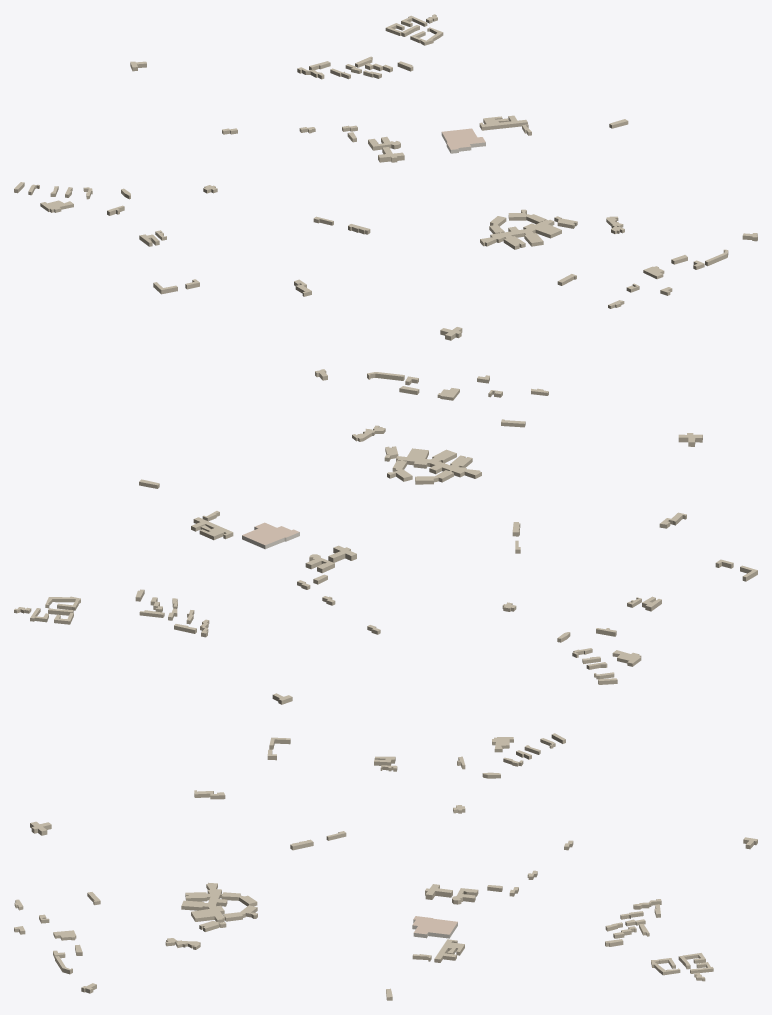
3 renders of one model, top to bottom at view 1: azimuth 30°, elevation 25°; view 2: azimuth 150°, elevation 25°; view 3: azimuth 270°, elevation 25°, orthographic. The views are drawn at different scales.
Size of the model in its own units: 1324 by 17 by 1582.
